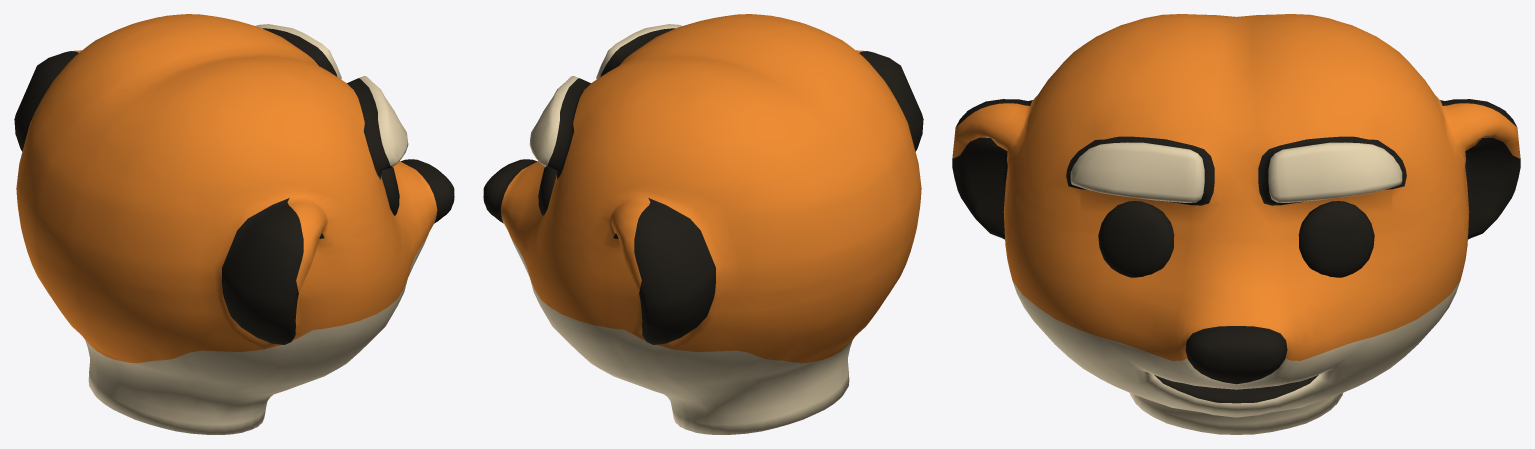
File: sett_head.glb
3 renders of one model, left to right at view 1: azimuth 30°, elevation 25°; view 2: azimuth 150°, elevation 25°; view 3: azimuth 270°, elevation 25°, orthographic. The views are drawn at different scales.
Parts seen in each view (by area): view 1: final; view 2: final; view 3: final.
Boxes of the visible parts, x1,y1,x2,y2 form: final: (14, 14, 454, 434); final: (483, 14, 923, 434); final: (952, 14, 1520, 434).
Size of the model in its own units: 0.8665 by 0.7368 by 1.
